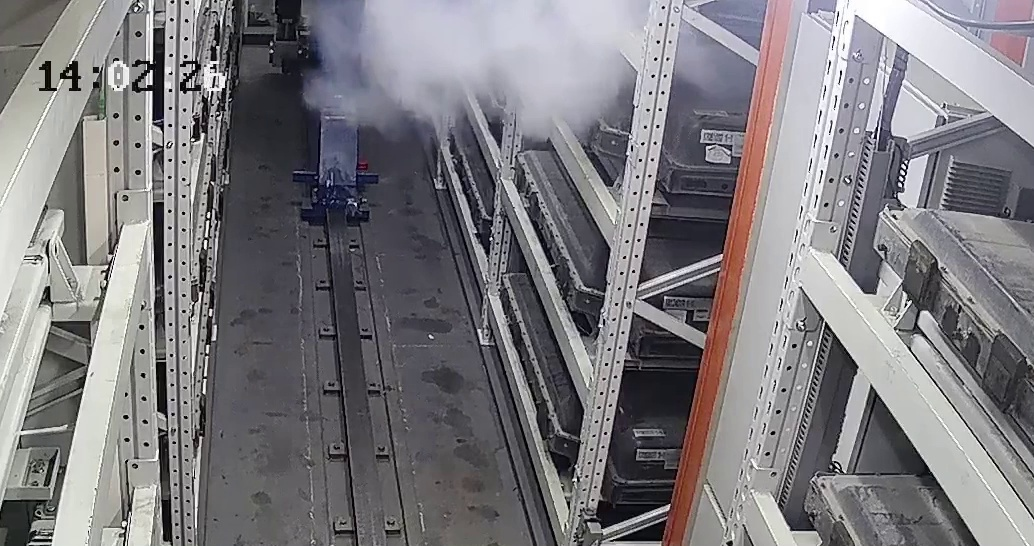smoke: (319, 5, 632, 137)
